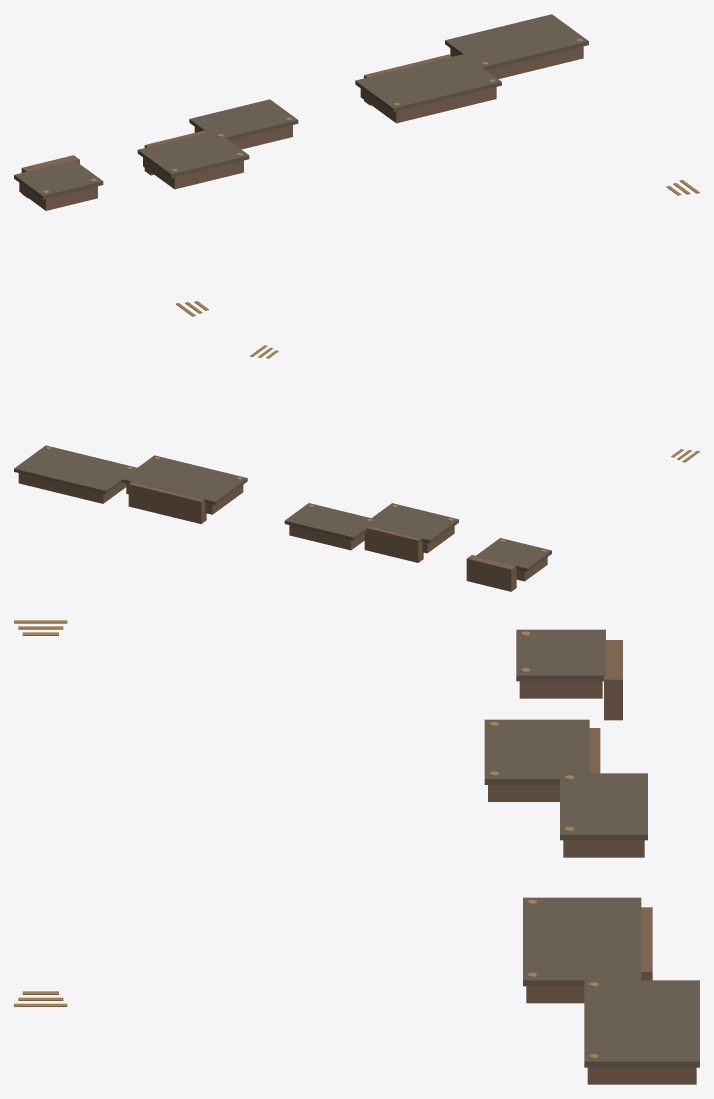
File: R07-architecture.glb
3 views of the same model, one above another, from view 1: azimuth 30°, elevation 25°; view 2: azimuth 150°, elevation 25°; view 3: azimuth 270°, elevation 25° (orthographic). The views are drawn at different scales.
Parts seen in each view (by area): view 1: PR061 • bolted equipment sill, PR062 • bolted equipment sill, PR064 • bolted equipment sill, PR068 • bolted equipment sill, PR065 • bolted equipment sill, PR061 • foundation shoulder, PR062 • foundation shoulder, PR064 • foundation shoulder, PR065 • foundation shoulder, PR068 • foundation shoulder; view 2: PR062 • bolted equipment sill, PR061 • bolted equipment sill, PR064 • bolted equipment sill, Cliff ledge • masonry return.002, PR068 • bolted equipment sill, Cliff ledge • masonry return.001, PR065 • bolted equipment sill, Cliff ledge • masonry return, PR062 • foundation shoulder, PR068 • foundation shoulder; view 3: PR061 • bolted equipment sill, PR062 • bolted equipment sill, PR064 • bolted equipment sill, PR068 • bolted equipment sill, PR065 • bolted equipment sill, PR062 • foundation shoulder, PR065 • foundation shoulder, PR068 • foundation shoulder, Cliff ledge • masonry return, PR064 • foundation shoulder, PR061 • foundation shoulder, Cliff ledge • masonry return.002.
Boxes of the visible parts, x1=… form: PR061 • bolted equipment sill: x1=355, y1=54, x2=501, y2=111; PR062 • bolted equipment sill: x1=445, y1=14, x2=588, y2=69; PR064 • bolted equipment sill: x1=137, y1=132, x2=249, y2=177; PR068 • bolted equipment sill: x1=189, y1=99, x2=298, y2=140; PR065 • bolted equipment sill: x1=14, y1=160, x2=103, y2=199; PR061 • foundation shoulder: x1=360, y1=87, x2=496, y2=123; PR062 • foundation shoulder: x1=450, y1=46, x2=583, y2=79; PR064 • foundation shoulder: x1=143, y1=157, x2=243, y2=189; PR065 • foundation shoulder: x1=19, y1=183, x2=97, y2=210; PR068 • foundation shoulder: x1=194, y1=125, x2=292, y2=149; PR062 • bolted equipment sill: x1=14, y1=445, x2=137, y2=494; PR061 • bolted equipment sill: x1=122, y1=455, x2=247, y2=504; PR064 • bolted equipment sill: x1=364, y1=503, x2=458, y2=543; Cliff ledge • masonry return.002: x1=128, y1=482, x2=206, y2=523; PR068 • bolted equipment sill: x1=284, y1=503, x2=377, y2=540; Cliff ledge • masonry return.001: x1=364, y1=526, x2=423, y2=562; PR065 • bolted equipment sill: x1=476, y1=538, x2=551, y2=571; Cliff ledge • masonry return: x1=466, y1=555, x2=516, y2=591; PR062 • foundation shoulder: x1=18, y1=473, x2=126, y2=503; PR068 • foundation shoulder: x1=289, y1=525, x2=364, y2=550; PR061 • bolted equipment sill: x1=523, y1=897, x2=641, y2=986; PR062 • bolted equipment sill: x1=584, y1=980, x2=699, y2=1067; PR064 • bolted equipment sill: x1=484, y1=719, x2=589, y2=784; PR068 • bolted equipment sill: x1=560, y1=773, x2=647, y2=840; PR065 • bolted equipment sill: x1=516, y1=629, x2=605, y2=681; PR062 • foundation shoulder: x1=587, y1=1067, x2=696, y2=1084; PR065 • foundation shoulder: x1=519, y1=681, x2=602, y2=698; PR068 • foundation shoulder: x1=563, y1=840, x2=644, y2=857; Cliff ledge • masonry return: x1=604, y1=640, x2=622, y2=720; PR064 • foundation shoulder: x1=488, y1=785, x2=559, y2=801; PR061 • foundation shoulder: x1=526, y1=986, x2=584, y2=1003; Cliff ledge • masonry return.002: x1=641, y1=907, x2=652, y2=980.
Bounding box in the file's own units: 10.92 × 0.484 × 7.19.
